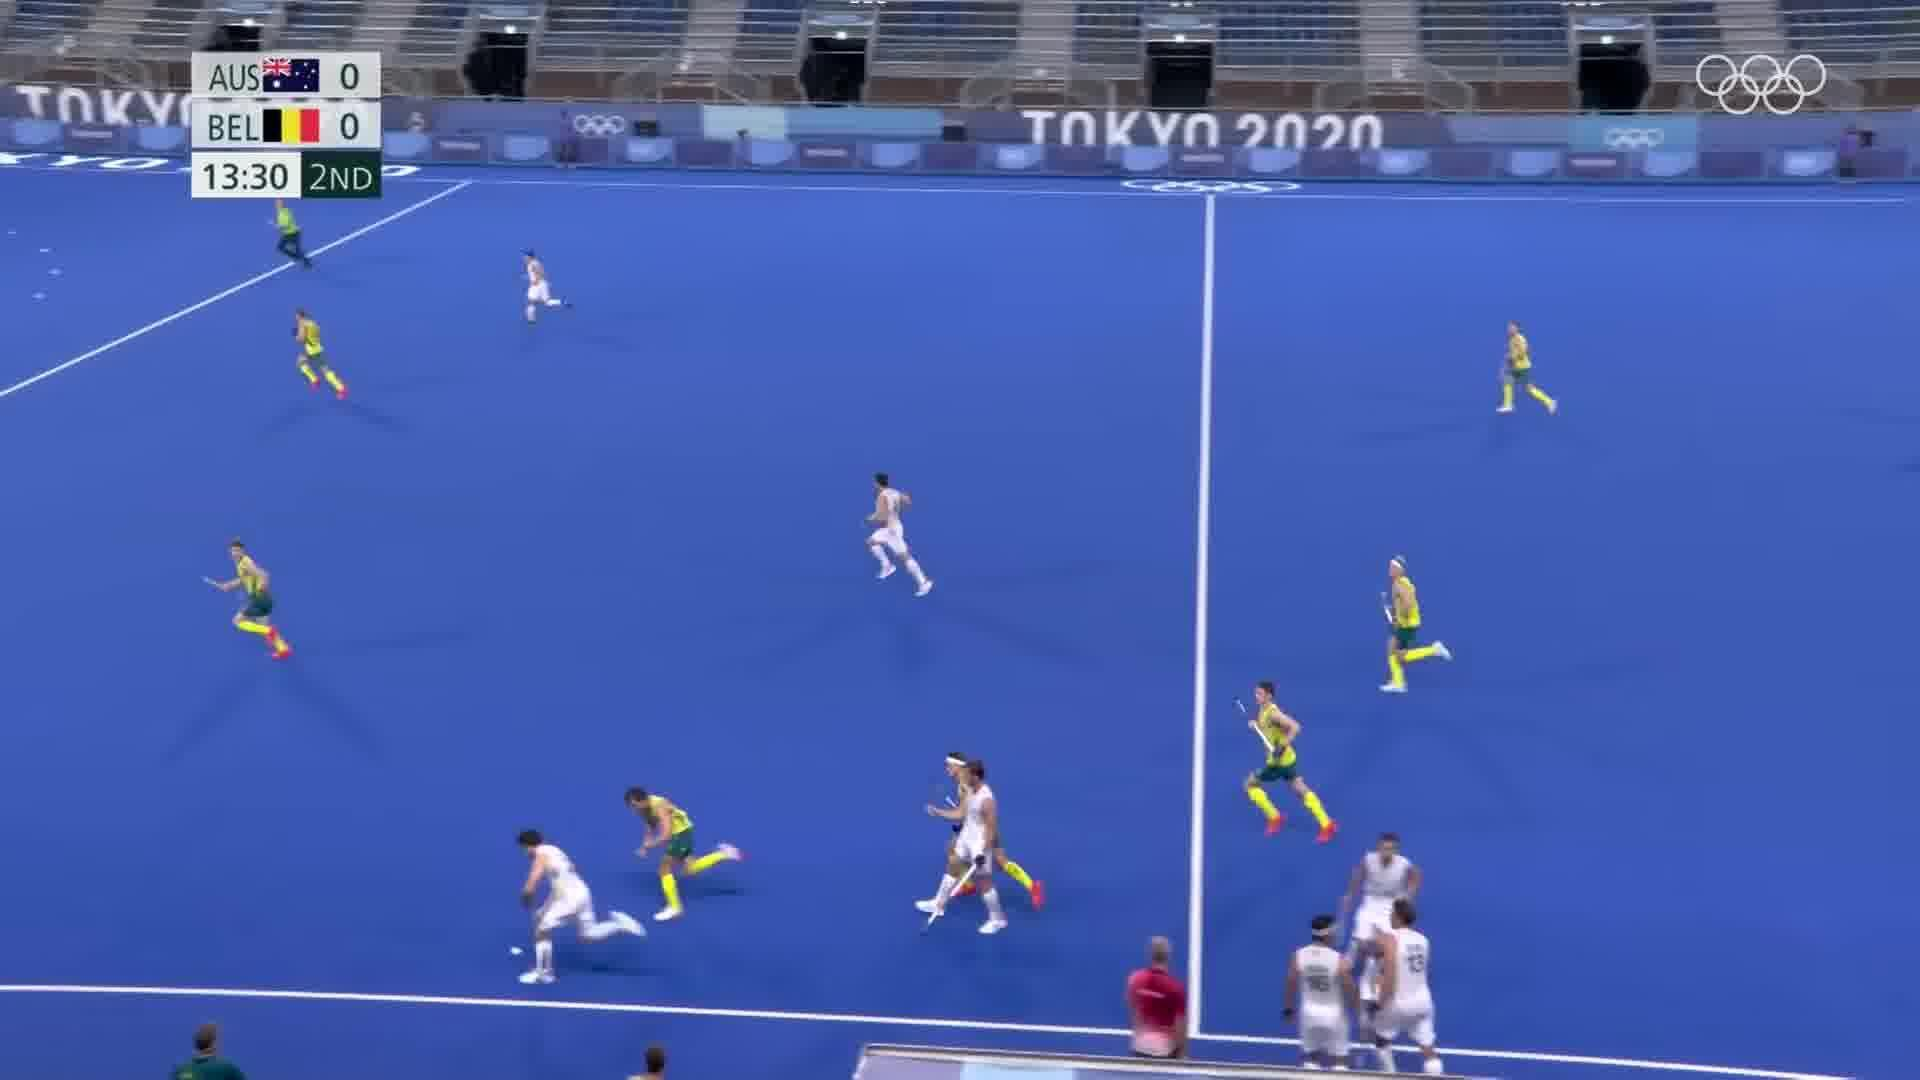ball: (498, 937, 527, 960)
